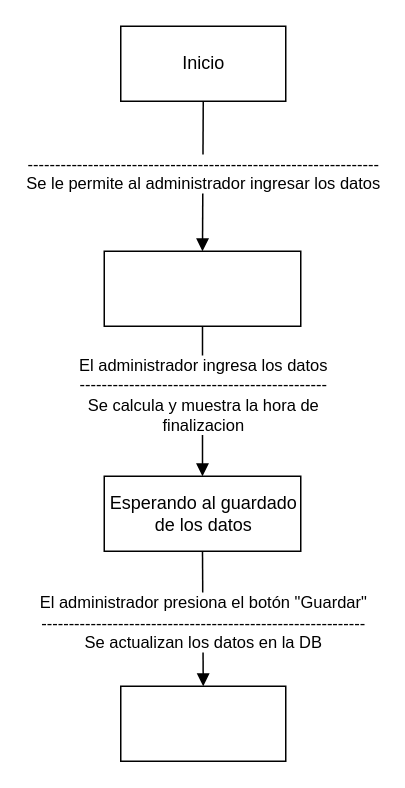
This 405x788 diagram has some shape labels left out. The shapes that lost their labels are listed below. From the top down, each one's centre as x and y in pixels, then its label:
At pixel 202 288: "Esperando el ingreso de datos".
At pixel 202 723: "Fin".
